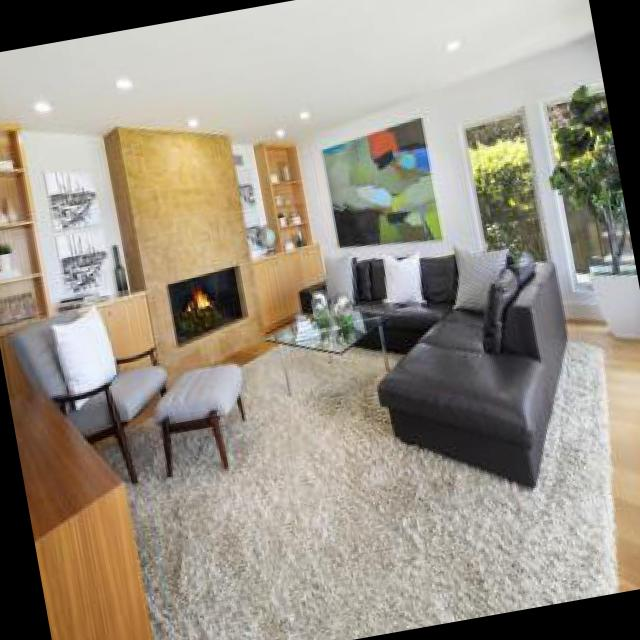Fire: (184, 280, 220, 320)
